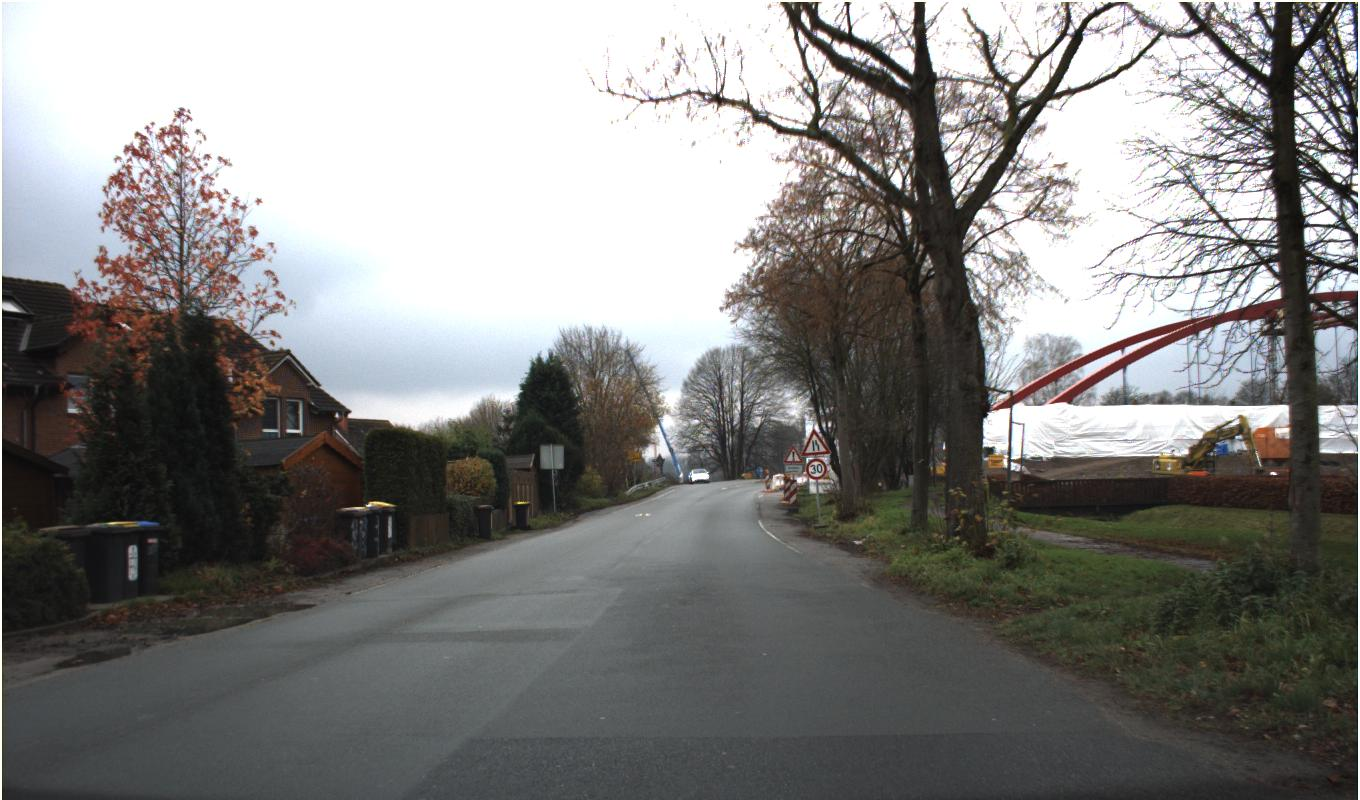danger: (800, 426, 831, 456), (783, 446, 804, 464)
prohibitory: (805, 458, 827, 480)
